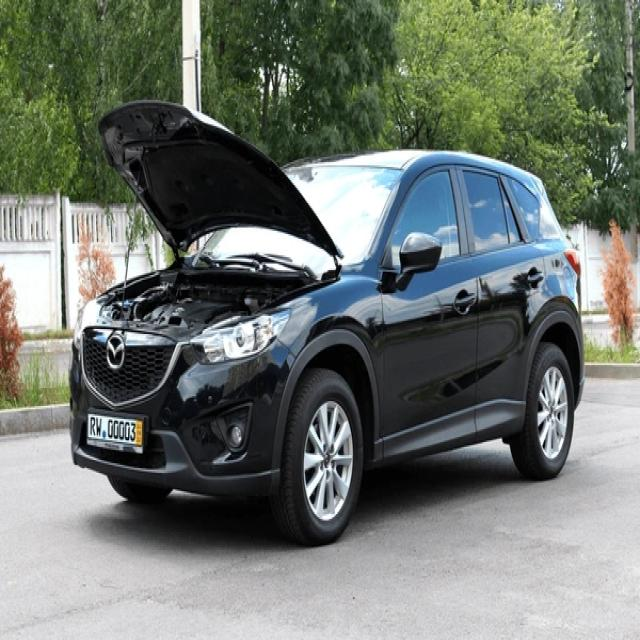mazda: (103, 333, 127, 372)
